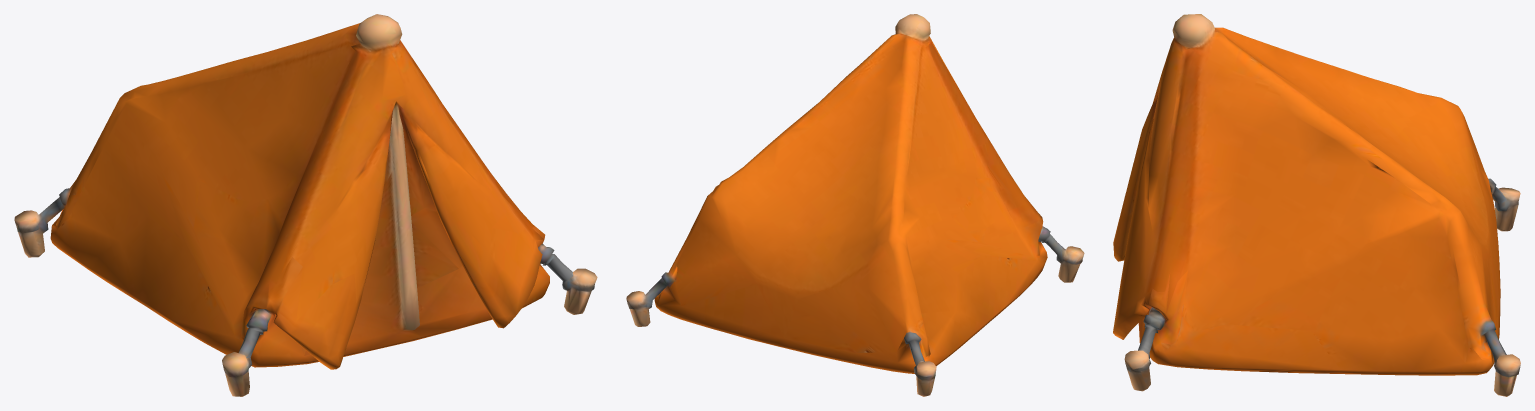
Rendered from tent.glb.
3 renders of one model, left to right at view 1: azimuth 30°, elevation 25°; view 2: azimuth 150°, elevation 25°; view 3: azimuth 270°, elevation 25°, orthographic. The views are drawn at different scales.
Visible parts, largest first — view 1: model; view 2: model; view 3: model.
Part boxes in pixels (x1,y1,x2,y2): model: [14, 14, 597, 396]; model: [626, 14, 1084, 396]; model: [1113, 14, 1520, 396].
Size of the model in its own units: 1.9 by 1.47 by 1.83.
Materials: 1 (1 with a texture image).
